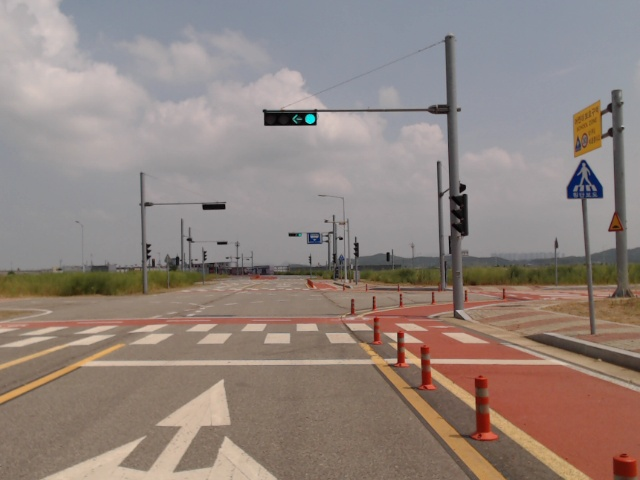all_green_4: (263, 109, 319, 126), (288, 232, 302, 237)
